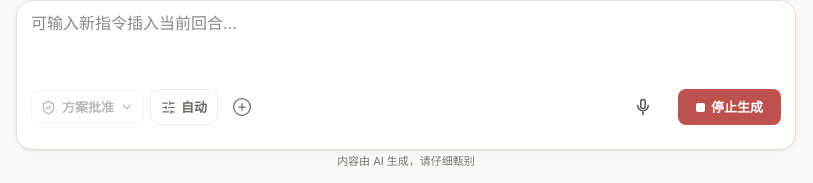
it: ChatComposer project library drops › offers steer while the agent is streaming
In the text box with placeholder "可输入新指令插入当前回合…": (406, 37) top-left (31, 11), bottom-right (781, 62), type "改成新的方向"
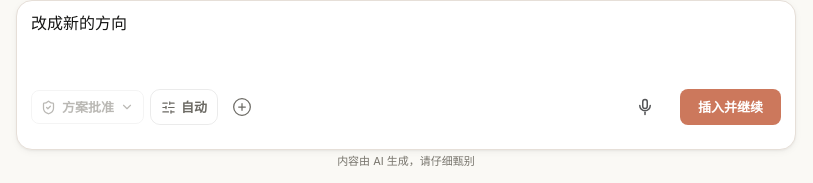
expect the button "插入并继续" is shown: met, box top-left (680, 89), bottom-right (781, 125)
